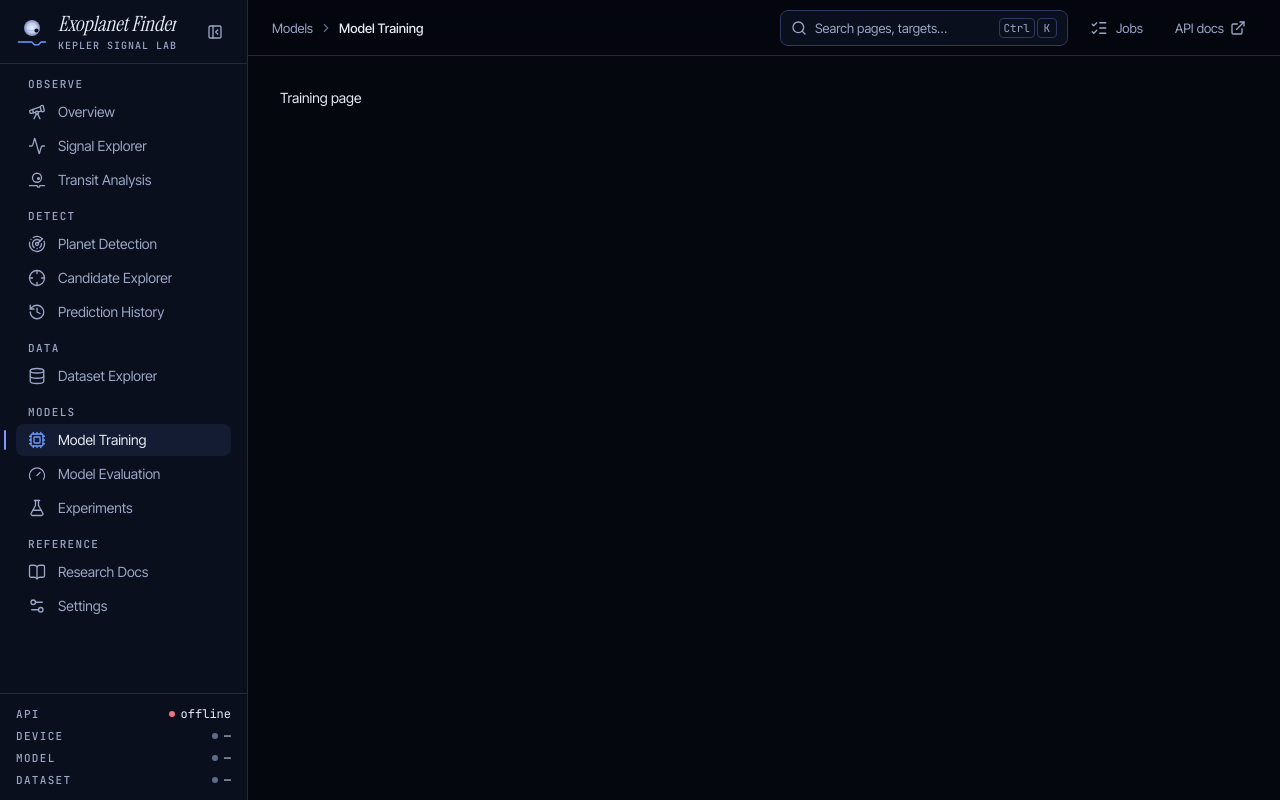
AppShell › keeps the natural tab order on first load and moves focus to <main> only on navigation
Check: the heading "Training page" is shown, box top-left (280, 89), bottom-right (361, 106)
Press Tab
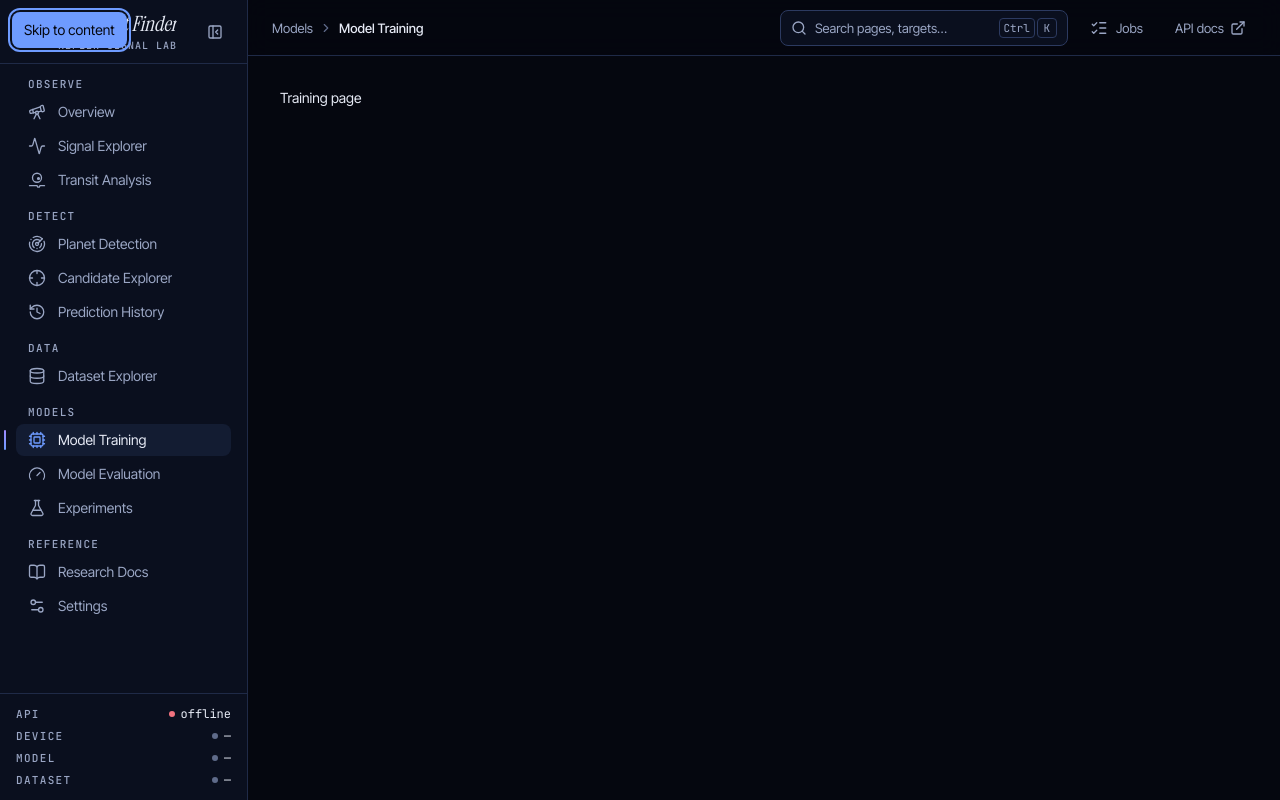
Check: the text "Skip to content" is shown, box top-left (12, 12), bottom-right (127, 48)
Client-side navigation: focus moves to the main region for screen-reader users.
Click the link "Model Evaluation".
click(94, 474)  # box top-left (28, 465), bottom-right (160, 483)
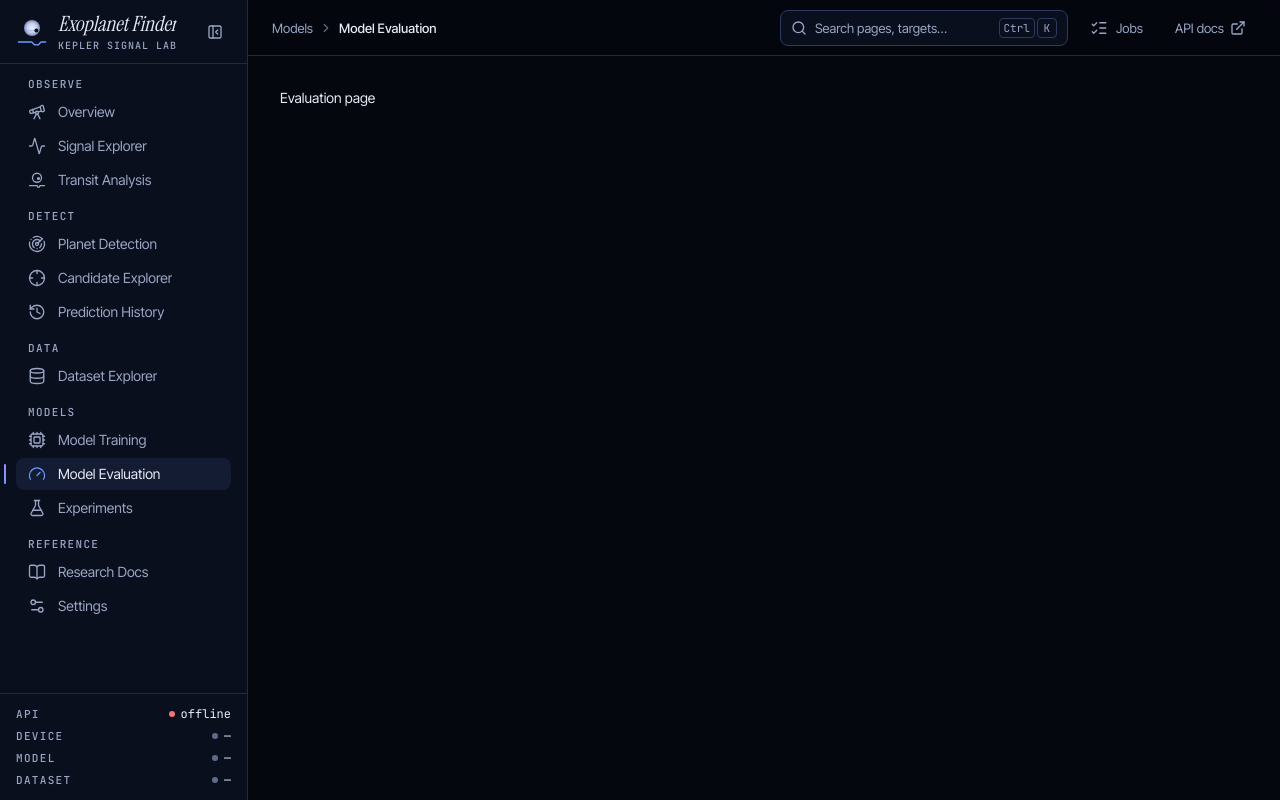
Check: the heading "Evaluation page" is shown, box top-left (280, 89), bottom-right (375, 106)
